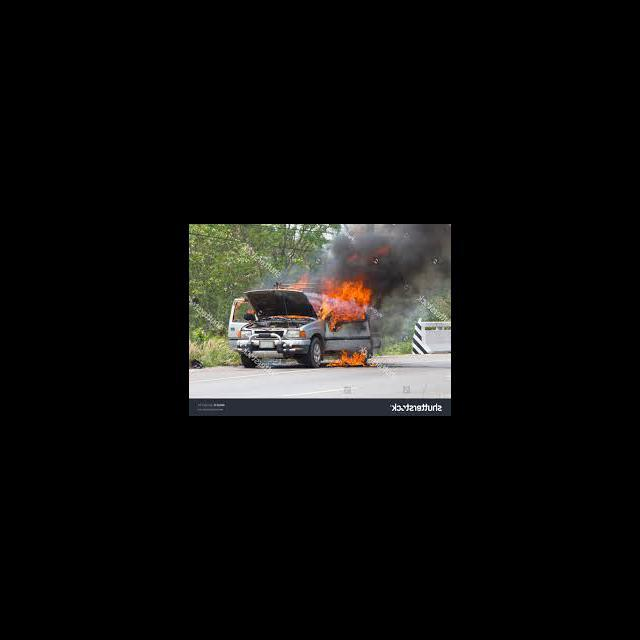Fire: (319, 276, 374, 332), (320, 349, 378, 370), (286, 270, 316, 290), (274, 313, 310, 319)
Smoke: (376, 225, 450, 305), (320, 224, 376, 273)
